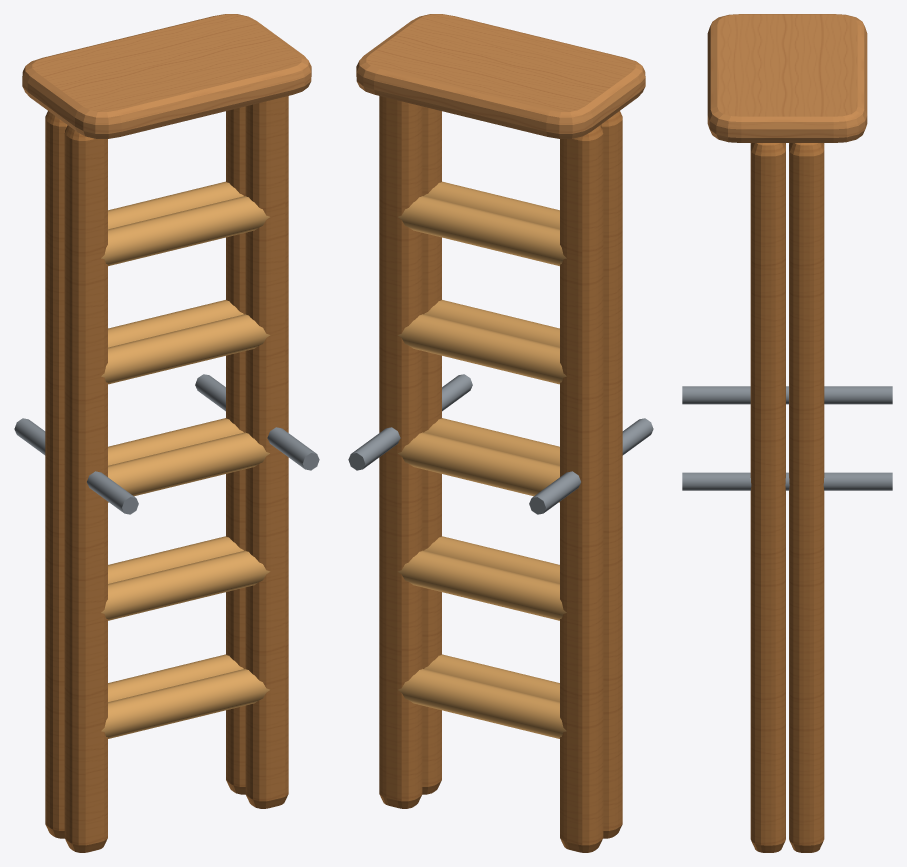
The model's file is ladder.glb.
The picture shows the model from 3 angles, left to right: view 1: azimuth 30°, elevation 25°; view 2: azimuth 150°, elevation 25°; view 3: azimuth 270°, elevation 25°; orthographic projection. The views are drawn at different scales.
Bounding box in the file's own units: 0.82 × 2.56 × 0.66.
4 materials, 2 textured.
